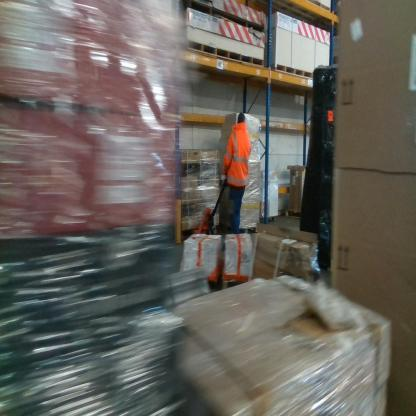pallet: (182, 225, 219, 241), (220, 223, 259, 234), (285, 209, 303, 218)
pallet_truck: (192, 172, 230, 236)
